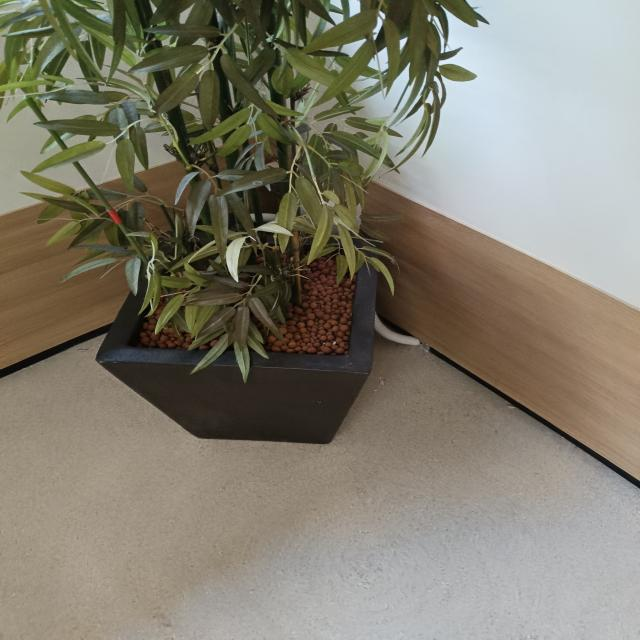Pot: (95, 231, 382, 445)
